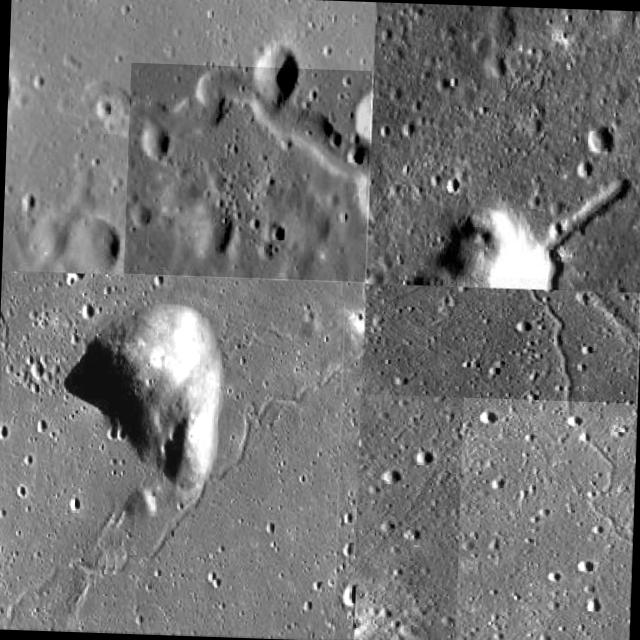rille: (0, 270, 364, 639), (455, 287, 640, 640), (124, 62, 372, 282), (362, 284, 640, 404), (483, 288, 640, 370), (546, 248, 576, 289)
